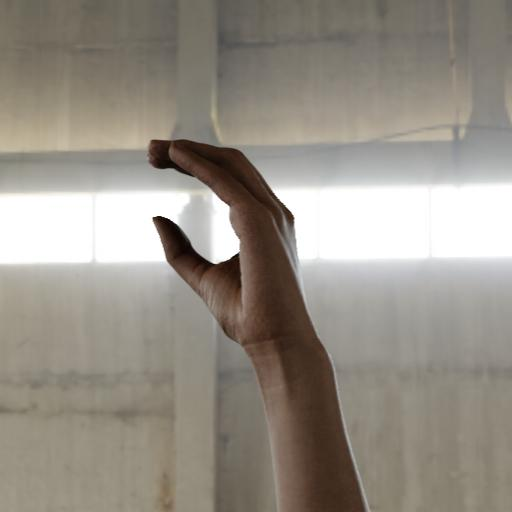C: (114, 119, 363, 463)
